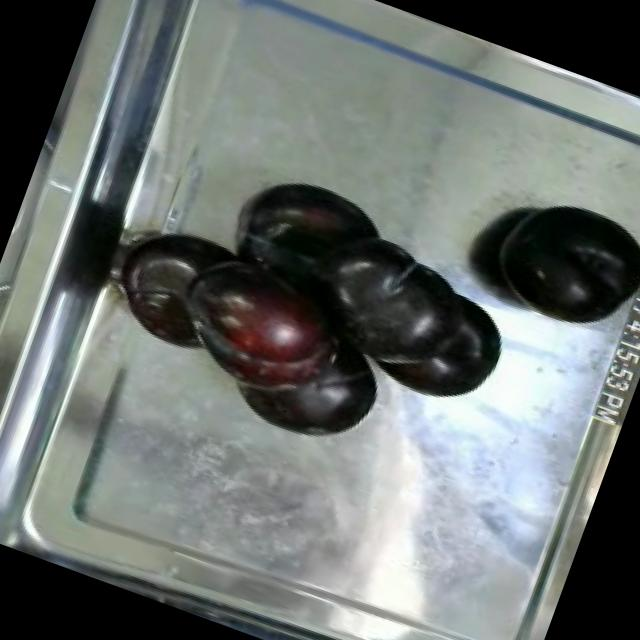Fruit: (318, 238, 530, 424), (160, 232, 370, 419), (469, 175, 640, 352), (224, 157, 400, 316)
